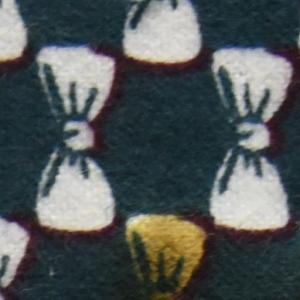Oil Stain: (123, 208, 215, 300)
